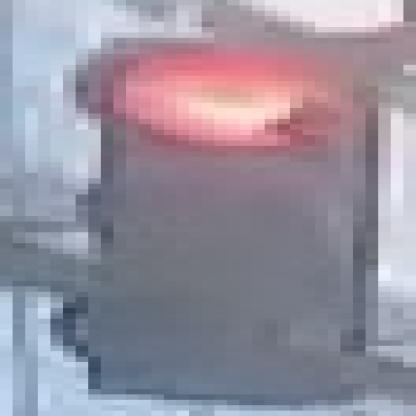Red Light: (86, 34, 367, 399)
